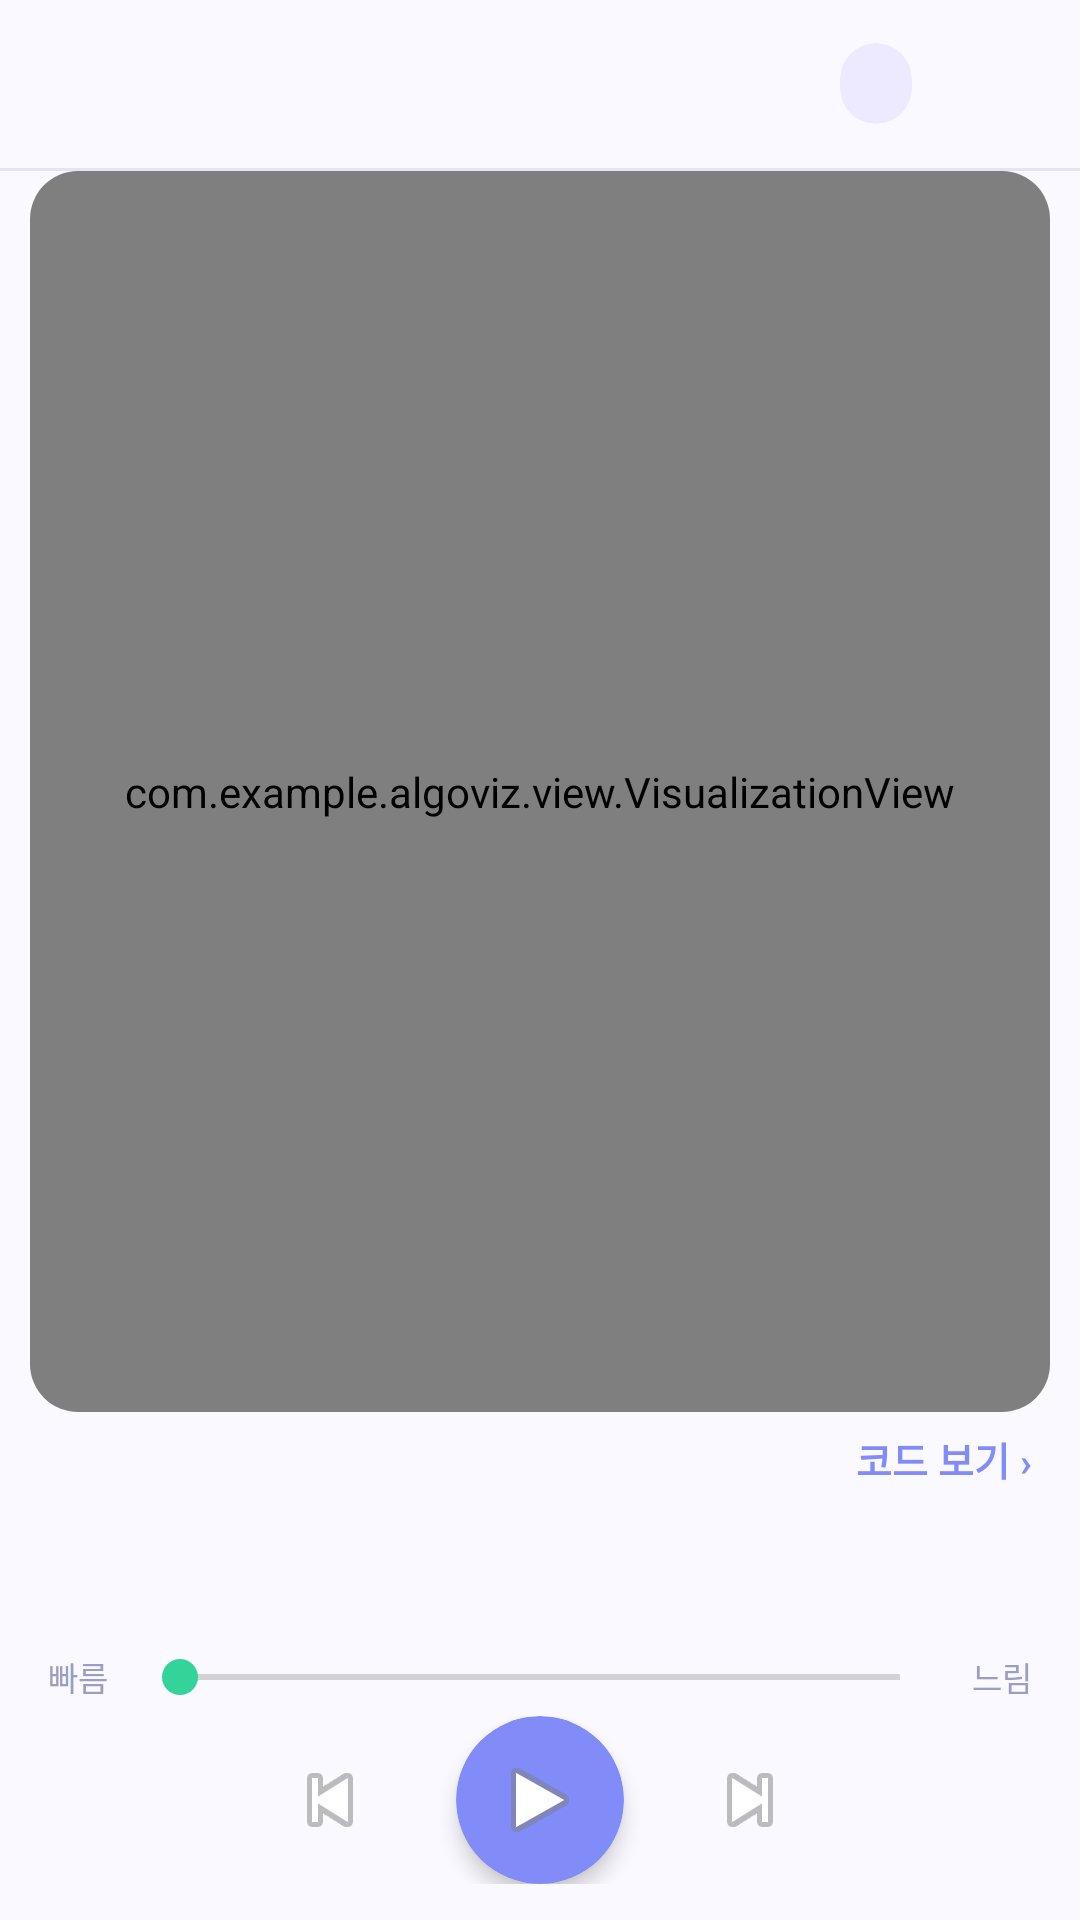

Named icons in this screenshot (1080w x 1920h) and their centers, (x=x, y=y):
다음: (x=750, y=1800)
이전: (x=330, y=1800)
재생: (x=540, y=1800)
